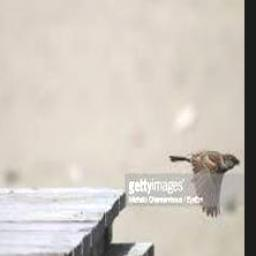Sparrow: (168, 152, 240, 217)
